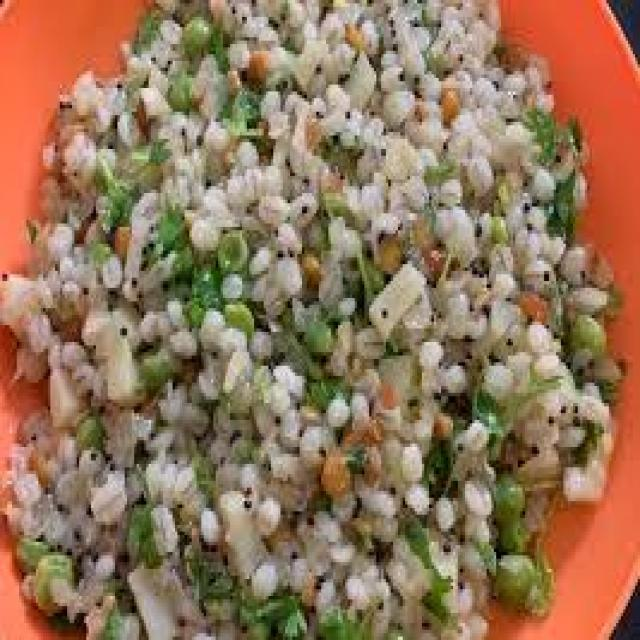UPMA: (7, 0, 621, 637)
